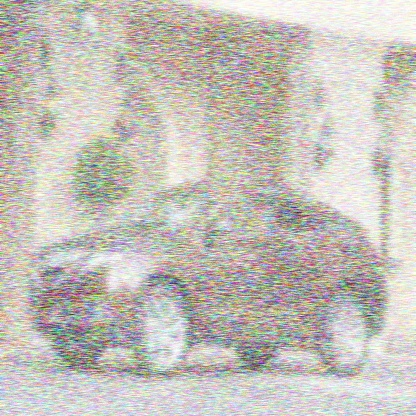Vehicle: (27, 182, 387, 378)
